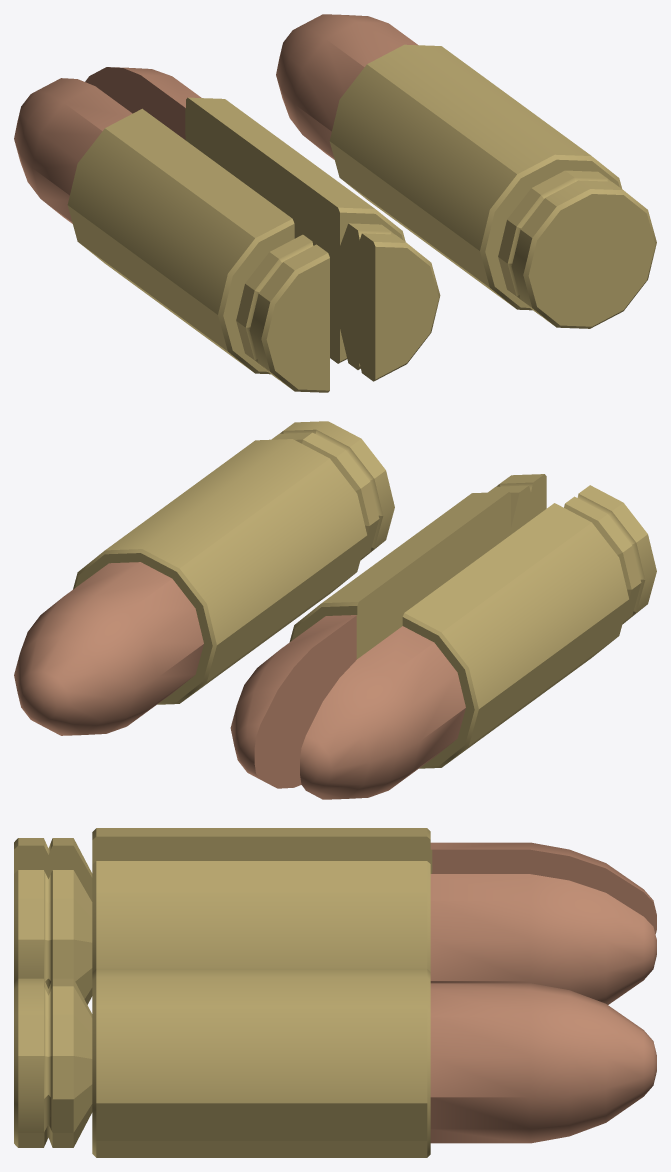
File: Bullet.fbx
3 views of the same model, one above another, from view 1: azimuth 30°, elevation 25°; view 2: azimuth 150°, elevation 25°; view 3: azimuth 270°, elevation 25° (orthographic). The views are drawn at different scales.
Parts seen in each view (by area): view 1: Bullet, parca2, parca1; view 2: Bullet, parca2, parca1; view 3: Bullet, parca1, parca2.
Boxes of the visible parts, bbox=[...] form: Bullet: bbox=[276, 14, 656, 328]; parca2: bbox=[14, 78, 329, 392]; parca1: bbox=[85, 67, 440, 381]; Bullet: bbox=[14, 421, 394, 735]; parca2: bbox=[300, 485, 656, 799]; parca1: bbox=[230, 474, 546, 788]; Bullet: bbox=[14, 968, 656, 1157]; parca1: bbox=[14, 861, 656, 1004]; parca2: bbox=[14, 828, 656, 933].
Size of the model in its own units: 22.61 by 8.21 by 27.81.
